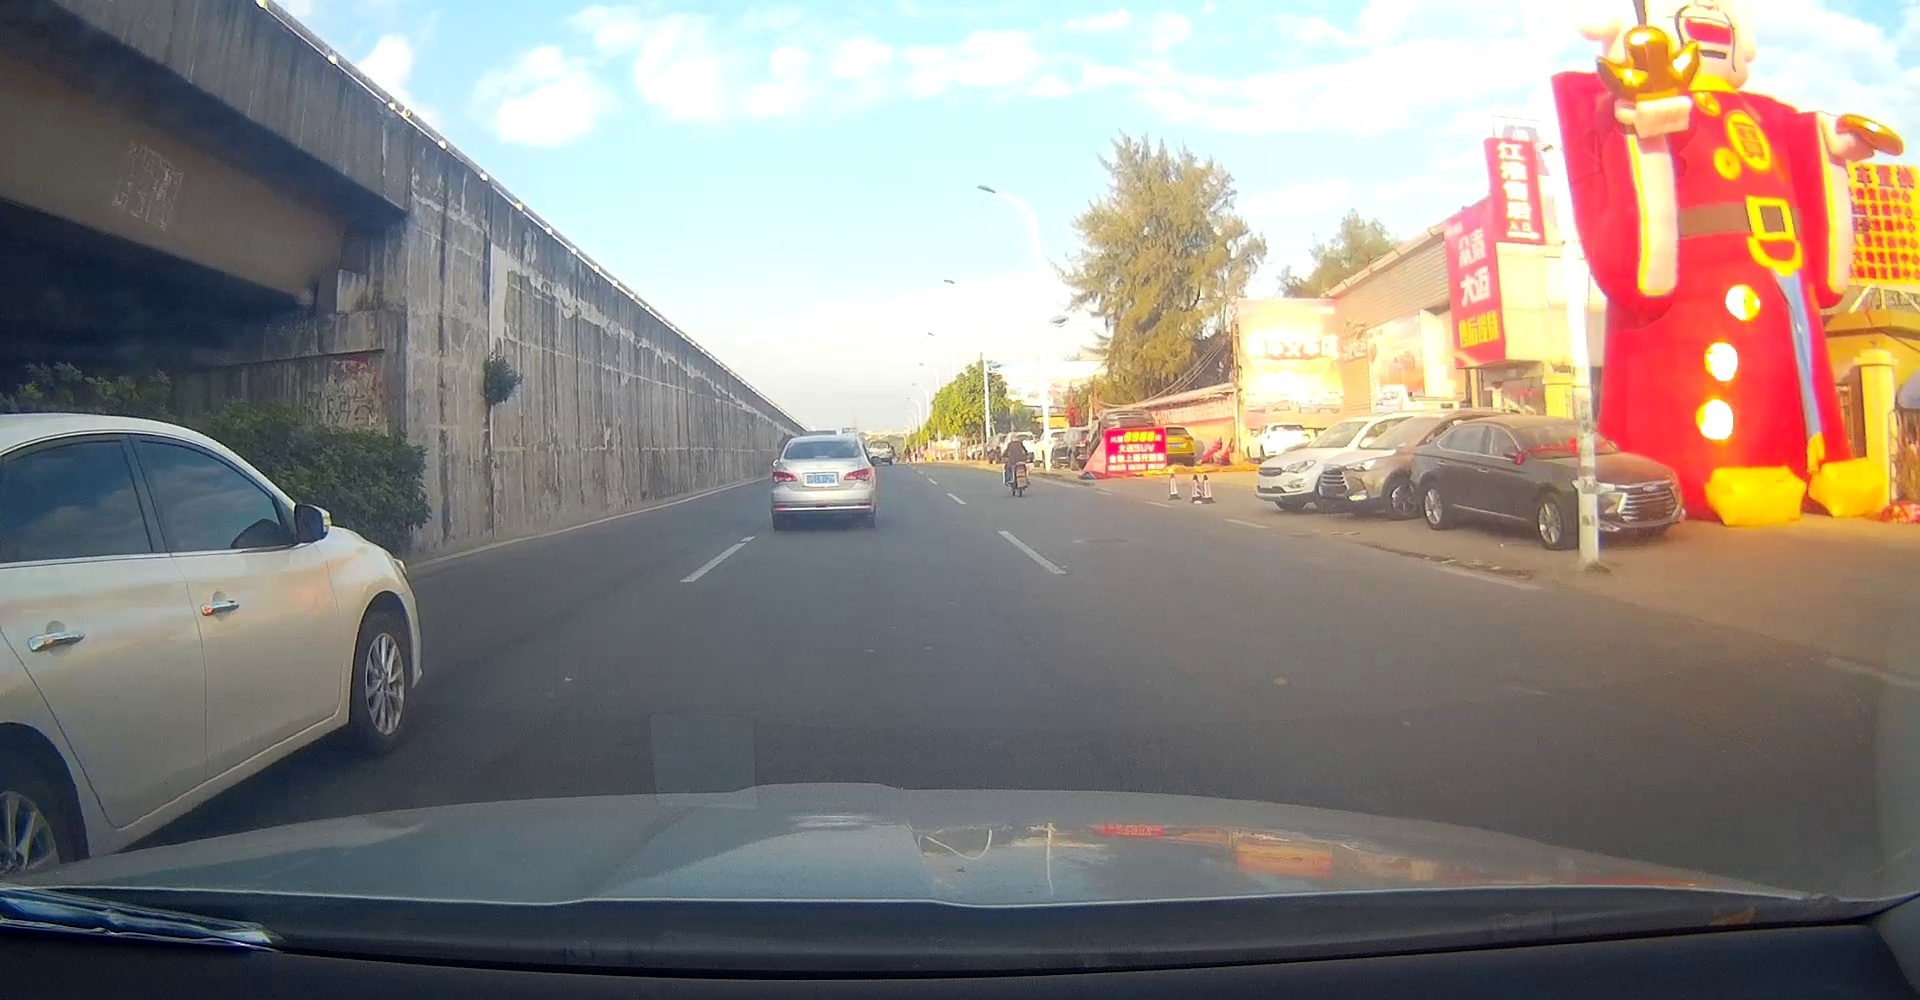L_light: (771, 471, 797, 484)
R_light: (843, 468, 872, 481)
T_light: (811, 456, 829, 458)
day-no: (770, 435, 874, 530)
